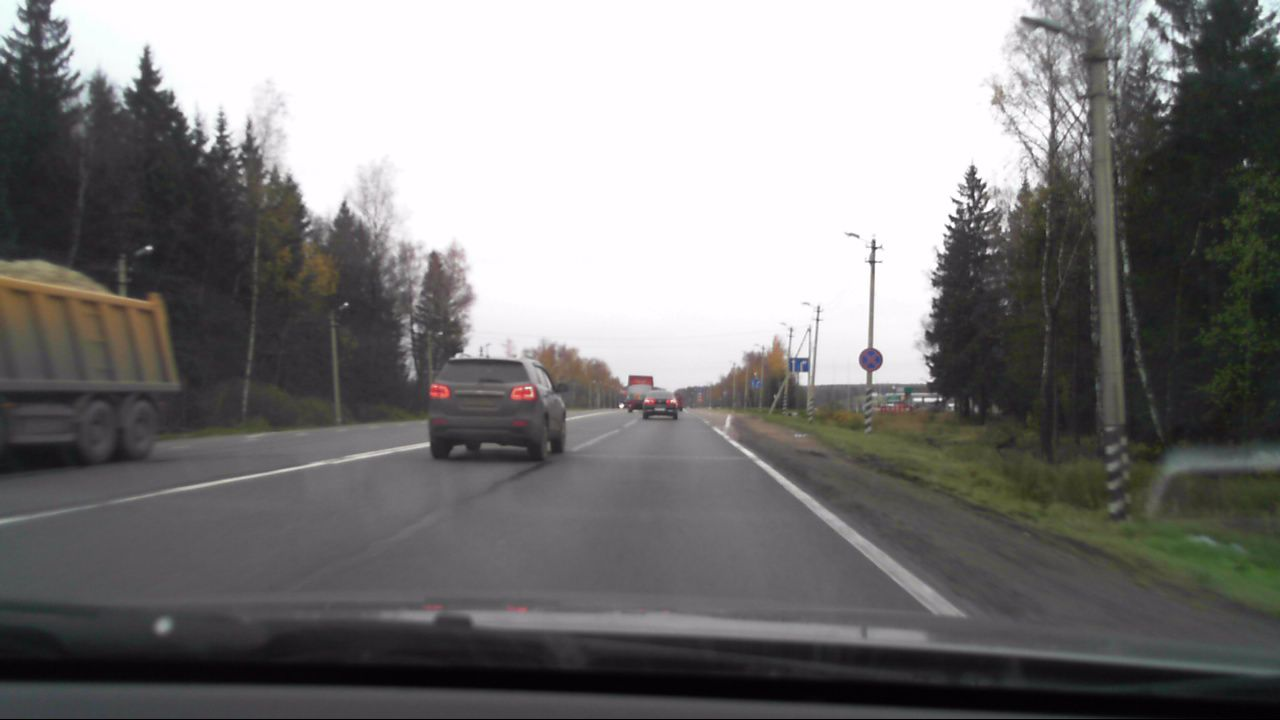No Parking: (858, 346, 884, 371)
